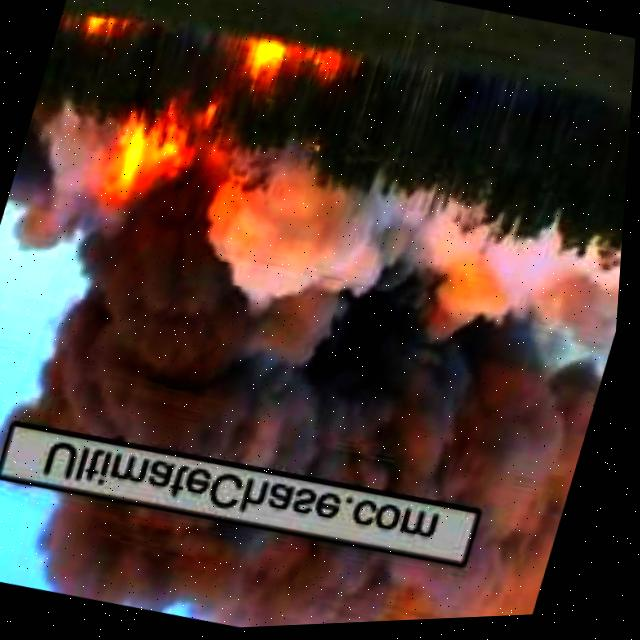Fire: (98, 103, 208, 231), (236, 34, 295, 95), (75, 5, 133, 43), (313, 50, 351, 85)
Smoke: (10, 123, 632, 553), (26, 470, 556, 638)
